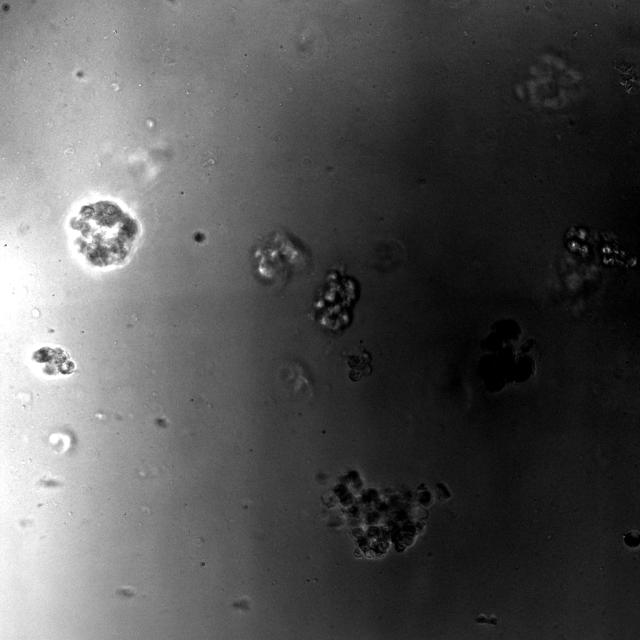organoid: (321, 469, 452, 559), (547, 225, 638, 313), (68, 200, 141, 271), (514, 53, 582, 112), (251, 228, 311, 286), (313, 269, 359, 333), (31, 345, 75, 376), (612, 48, 639, 94), (345, 348, 372, 381), (193, 232, 206, 243)
